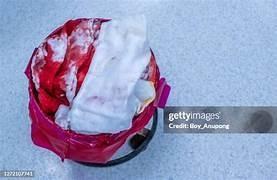cotton: (25, 18, 161, 163), (56, 17, 154, 133), (68, 17, 150, 133), (31, 19, 104, 116), (134, 79, 155, 113), (55, 104, 68, 128)
